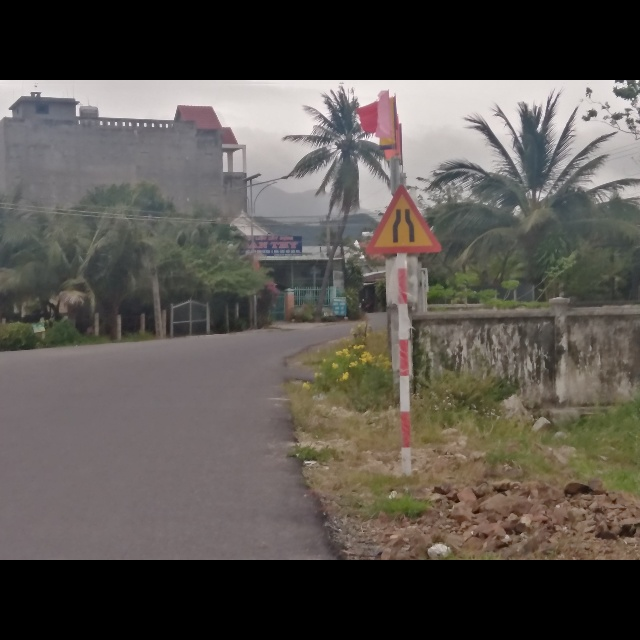Đường bị hẹp cả hai bên: (363, 185, 443, 253)
